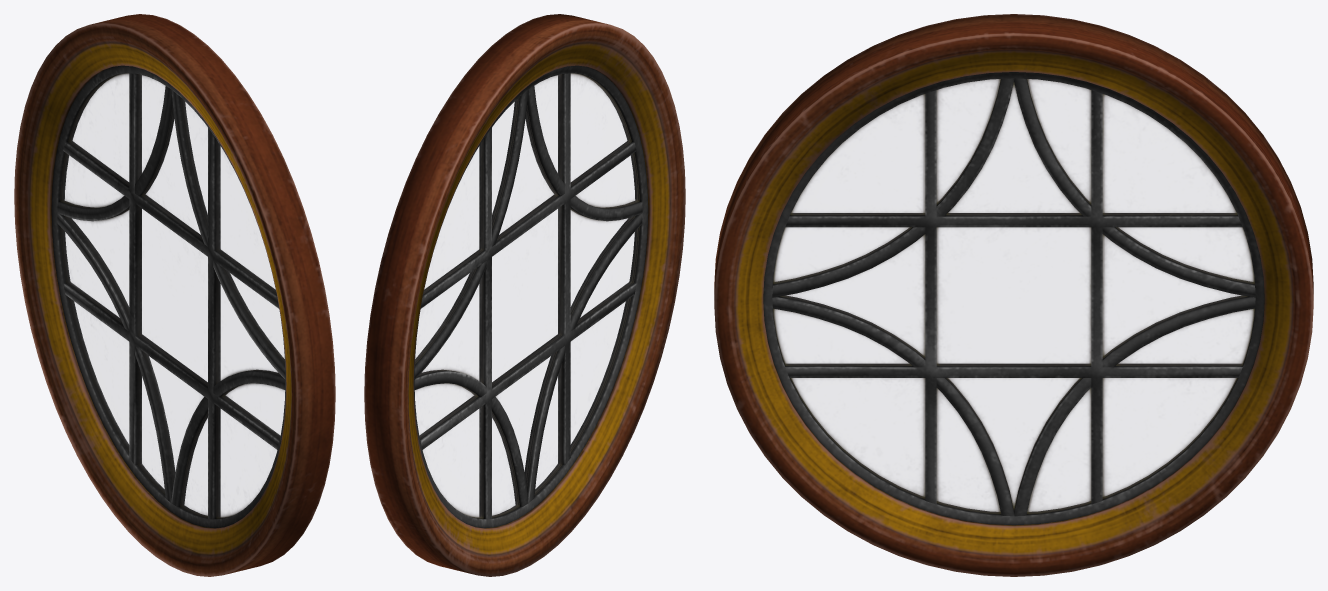
Rendered from shire_window.glb.
3 views of the same model, side by side, from view 1: azimuth 30°, elevation 25°; view 2: azimuth 150°, elevation 25°; view 3: azimuth 270°, elevation 25° (orthographic). The views are drawn at different scales.
Parts seen in each view (by area): view 1: Cylinder.005; view 2: Cylinder.005; view 3: Cylinder.005.
Part boxes in pixels (x1=…): Cylinder.005: x1=14, y1=14, x2=335, y2=576; Cylinder.005: x1=364, y1=14, x2=685, y2=576; Cylinder.005: x1=714, y1=14, x2=1313, y2=576.
Size of the model in its own units: 16.3 by 209 by 209.
1 material, 1 textured.
